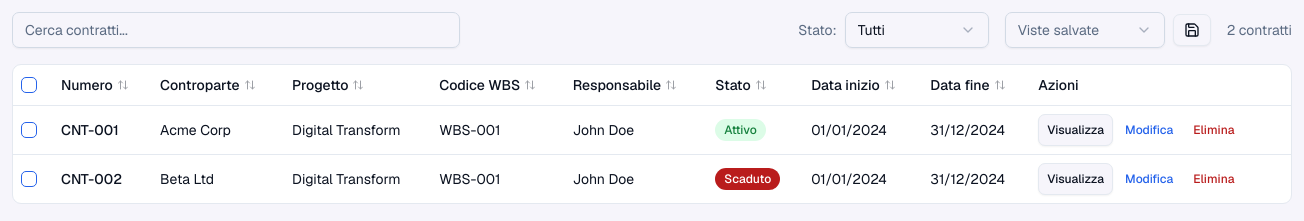
Test case: ContractTable › shows the Clear button when status filter is active
Expected: the button "pulisci" is not shown
Click the dropdown named "filtra per stato": (917, 30) [845,12,989,48]
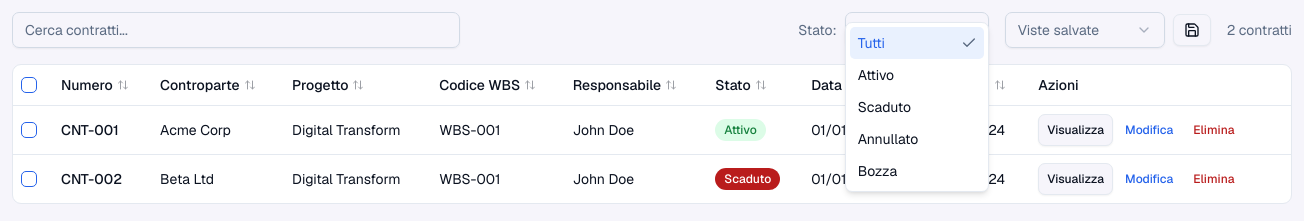
Click the option "Attivo": (876, 75) [858,66,894,84]
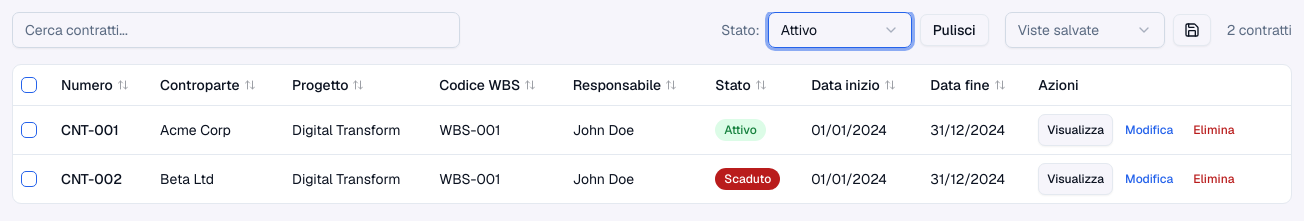
Now the button "Pulisci" is shown, box [920,14,989,46]
